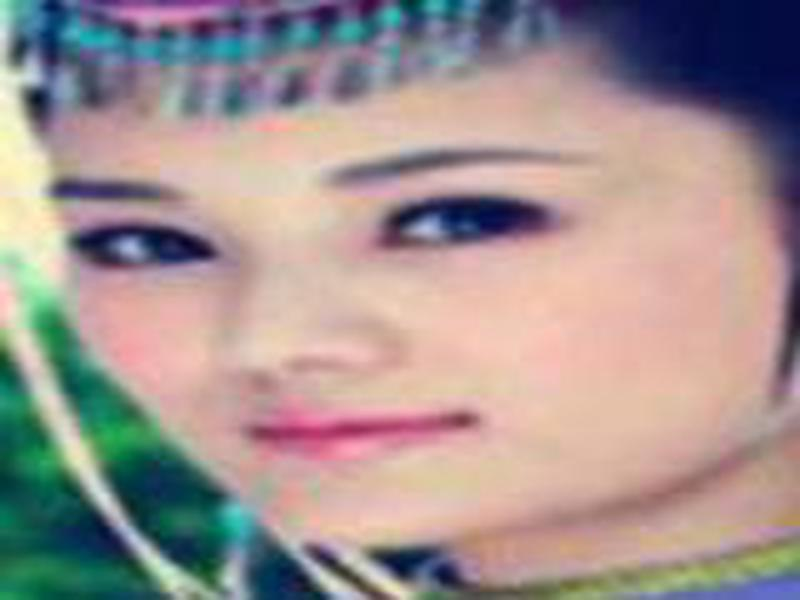without_mask: (19, 46, 768, 561)
